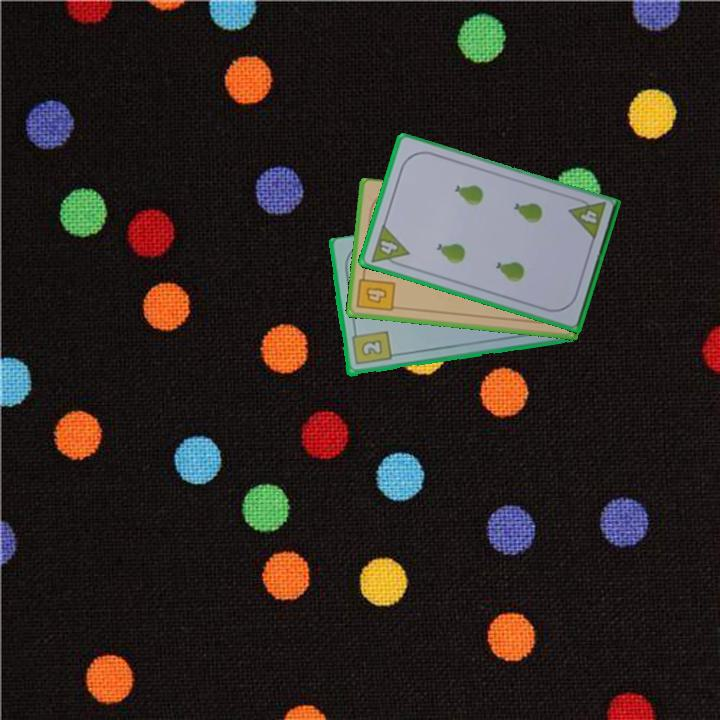2b: (348, 326, 394, 368)
4b: (353, 269, 398, 314)
4p: (367, 221, 412, 271), (566, 194, 609, 243)
